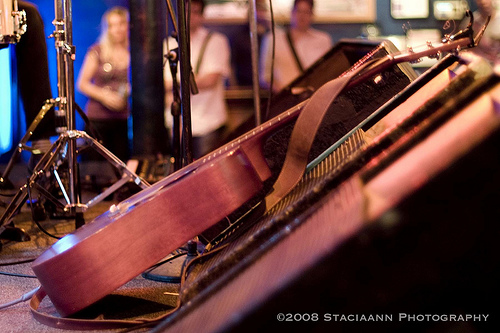guitar: (31, 29, 482, 319)
